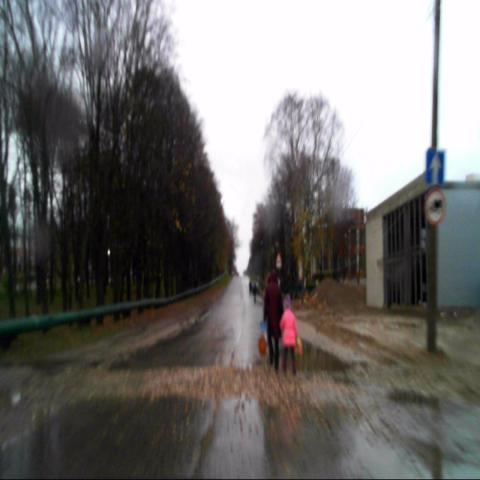3_4_1: (425, 188, 446, 225)
5_5: (426, 148, 445, 184)
